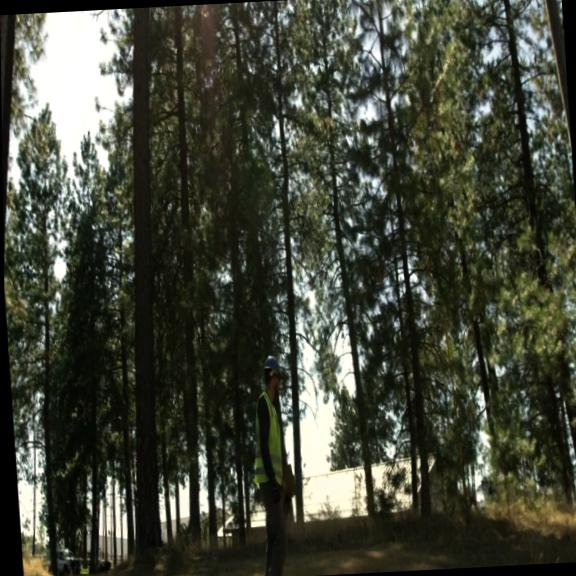safety_vest: (249, 392, 284, 486)
